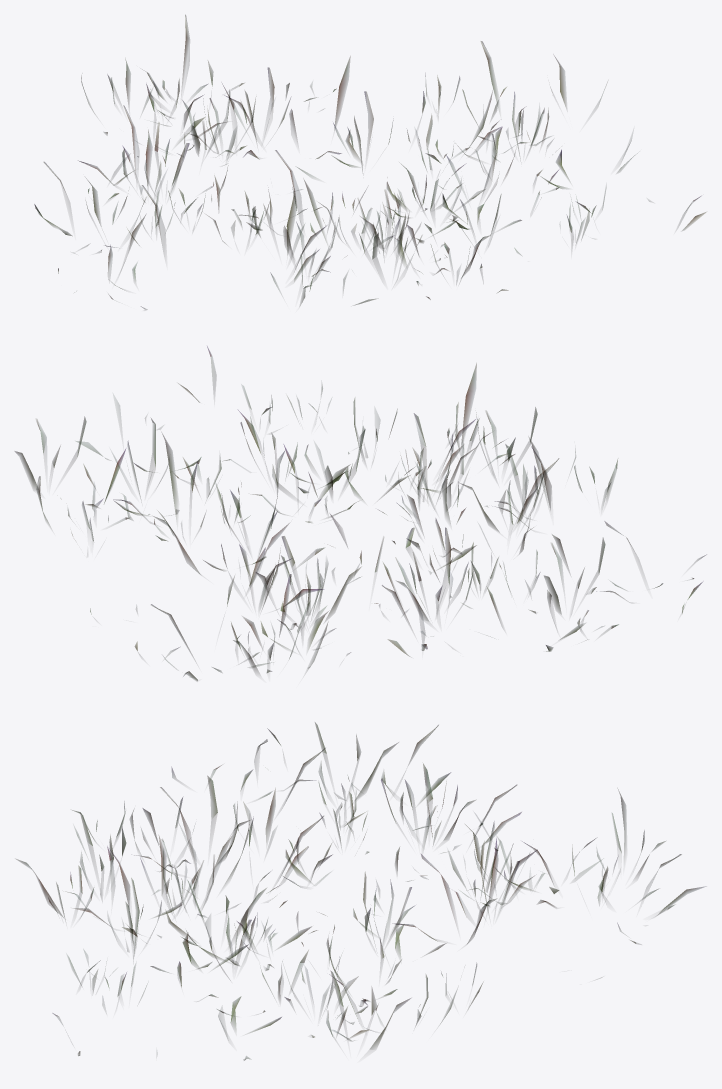
File: Grass_Dryland_Small.glb
3 renders of one model, top to bottom at view 1: azimuth 30°, elevation 25°; view 2: azimuth 150°, elevation 25°; view 3: azimuth 270°, elevation 25°, orthographic. The views are drawn at different scales.
Visible parts, largest first — view 1: Grass_Dryland_Small; view 2: Grass_Dryland_Small; view 3: Grass_Dryland_Small.
Part boxes in pixels (bbox=[...]): Grass_Dryland_Small: bbox=[34, 15, 705, 309]; Grass_Dryland_Small: bbox=[15, 346, 706, 681]; Grass_Dryland_Small: bbox=[16, 722, 705, 1060].
Bounding box in the file's own units: 1.11 × 0.15 × 1.02.
Materials: 1 (1 with a texture image).
